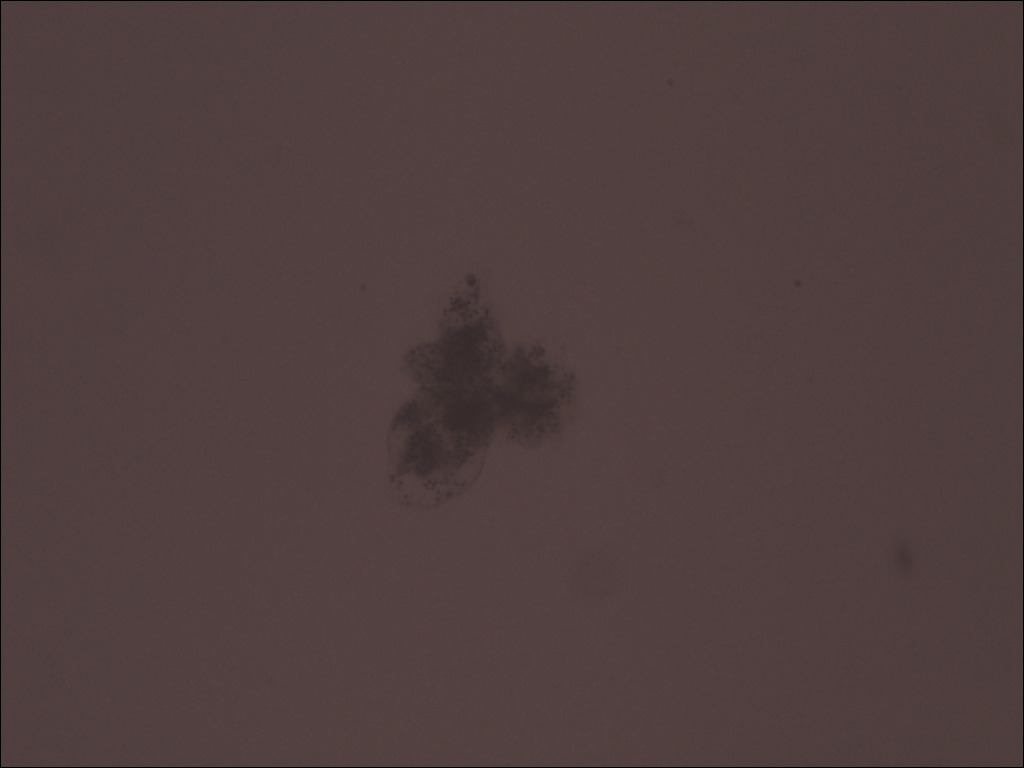amoeba: (374, 265, 598, 521)
